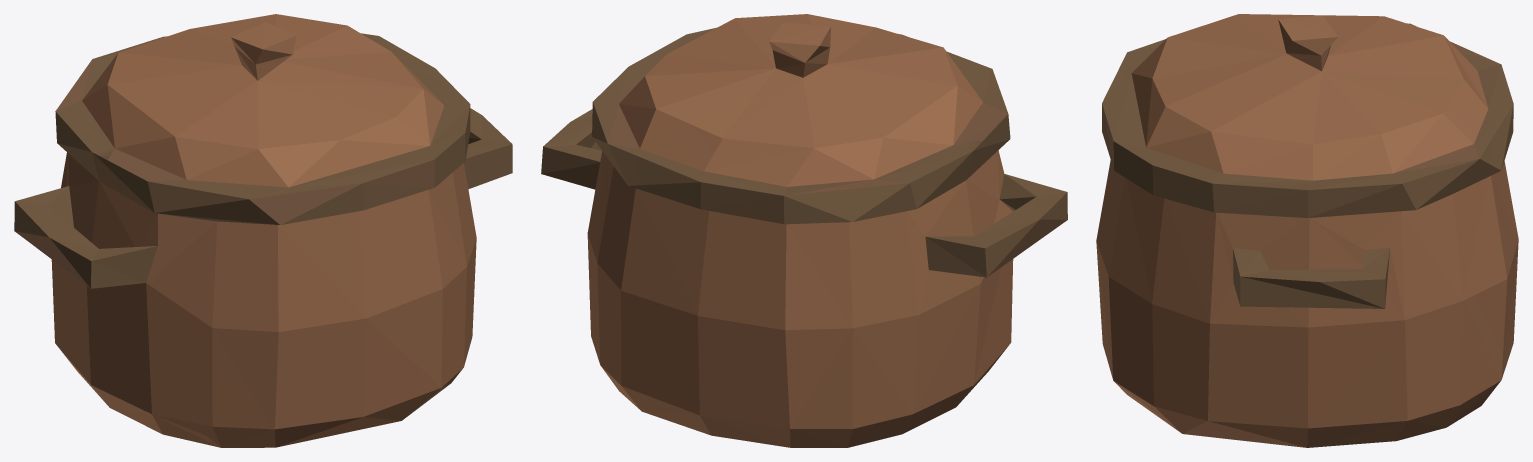
The model's file is mdvl_props_pot_01.glb.
The picture shows the model from 3 angles, left to right: view 1: azimuth 30°, elevation 25°; view 2: azimuth 150°, elevation 25°; view 3: azimuth 270°, elevation 25°; orthographic projection. The views are drawn at different scales.
Parts seen in each view (by area): view 1: mdvl_props_pot_01; view 2: mdvl_props_pot_01; view 3: mdvl_props_pot_01.
Boxes of the visible parts, x1,y1,x2,y2 form: mdvl_props_pot_01: [14, 14, 512, 447]; mdvl_props_pot_01: [541, 14, 1067, 447]; mdvl_props_pot_01: [1096, 14, 1518, 447].
Size of the model in its own units: 0.3698 by 0.2663 by 0.2925.
1 material, 1 textured.
